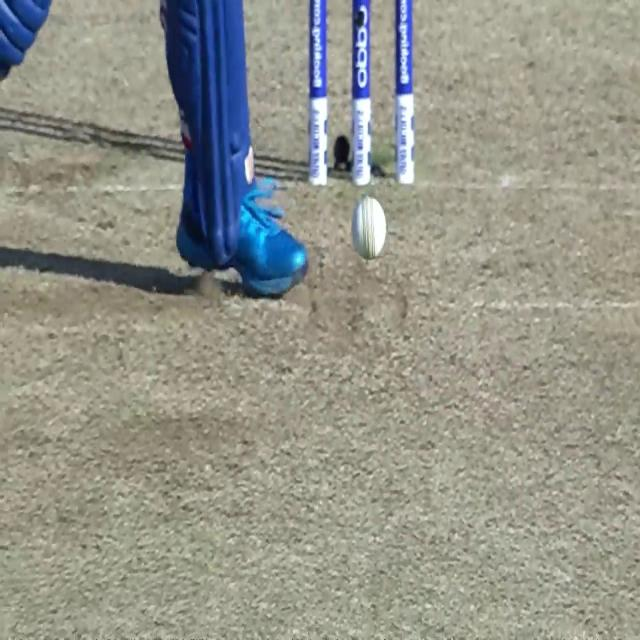ball: (351, 195, 387, 258)
